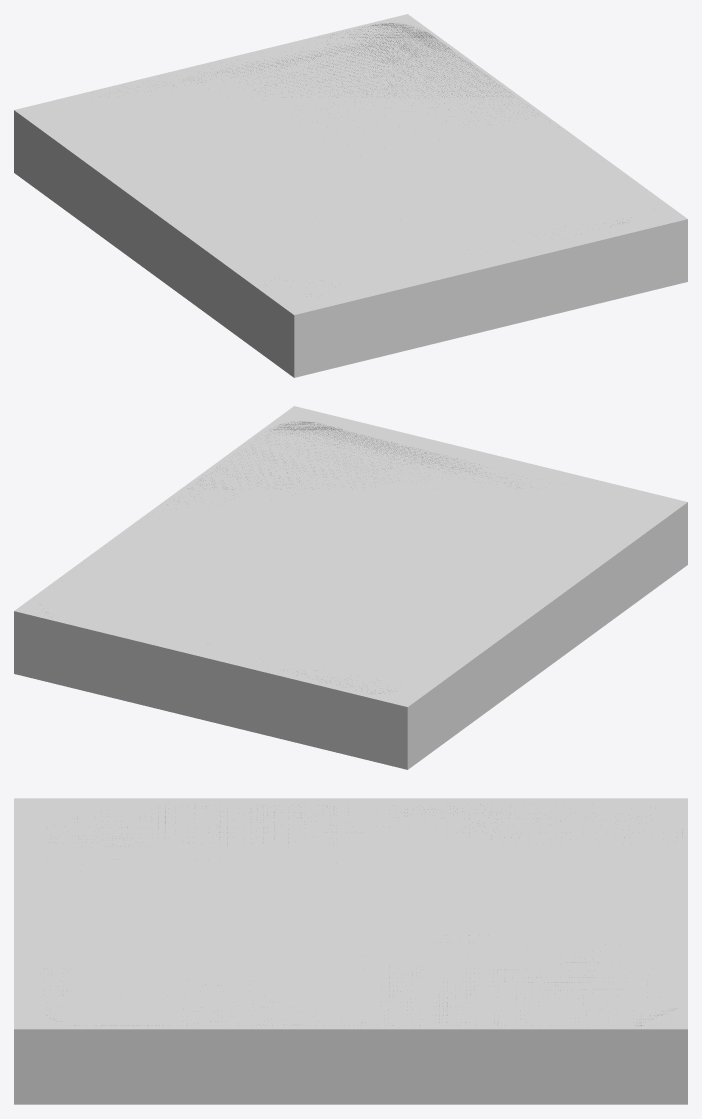
File: UpLu_Stone_Platform_02.gltf
The picture shows the model from 3 angles, top to bottom: view 1: azimuth 30°, elevation 25°; view 2: azimuth 150°, elevation 25°; view 3: azimuth 270°, elevation 25°; orthographic projection. The views are drawn at different scales.
Visible parts, largest first — view 1: UpLu_Stone_Platform_02_bcol, UpLu_Stone_Platform_02.001; view 2: UpLu_Stone_Platform_02_bcol, UpLu_Stone_Platform_02.001; view 3: UpLu_Stone_Platform_02_bcol.
Part boxes in pixels (x1,y1,x2,y2): UpLu_Stone_Platform_02_bcol: (14, 14, 687, 377); UpLu_Stone_Platform_02.001: (189, 23, 627, 223); UpLu_Stone_Platform_02_bcol: (14, 406, 687, 769); UpLu_Stone_Platform_02.001: (40, 421, 537, 693); UpLu_Stone_Platform_02_bcol: (14, 798, 687, 1104).
Size of the model in its own units: 2.56 by 0.3903 by 3.16.
Materials: 2 (1 with a texture image).
